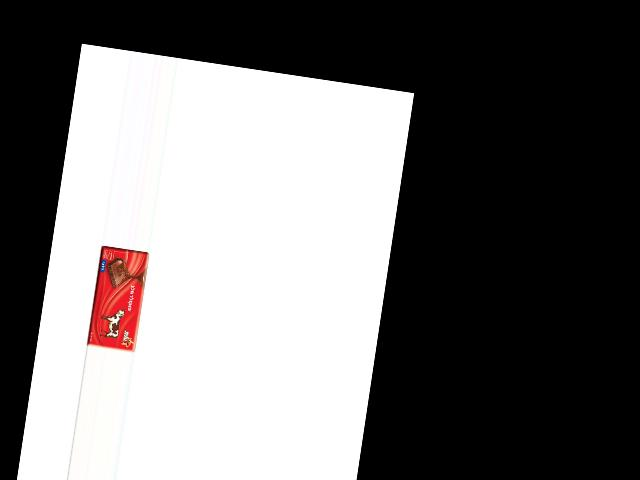chocolate: (86, 244, 149, 353)
